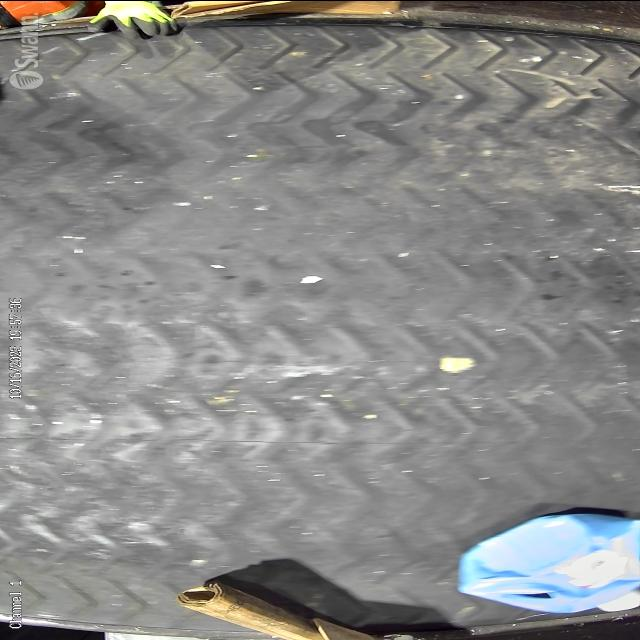non_white_jug: (450, 506, 640, 620)
